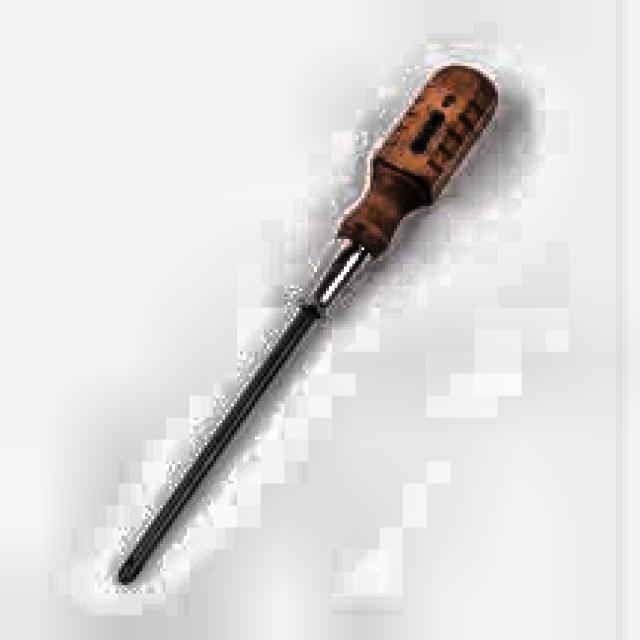screwdriver: (117, 68, 496, 584)
